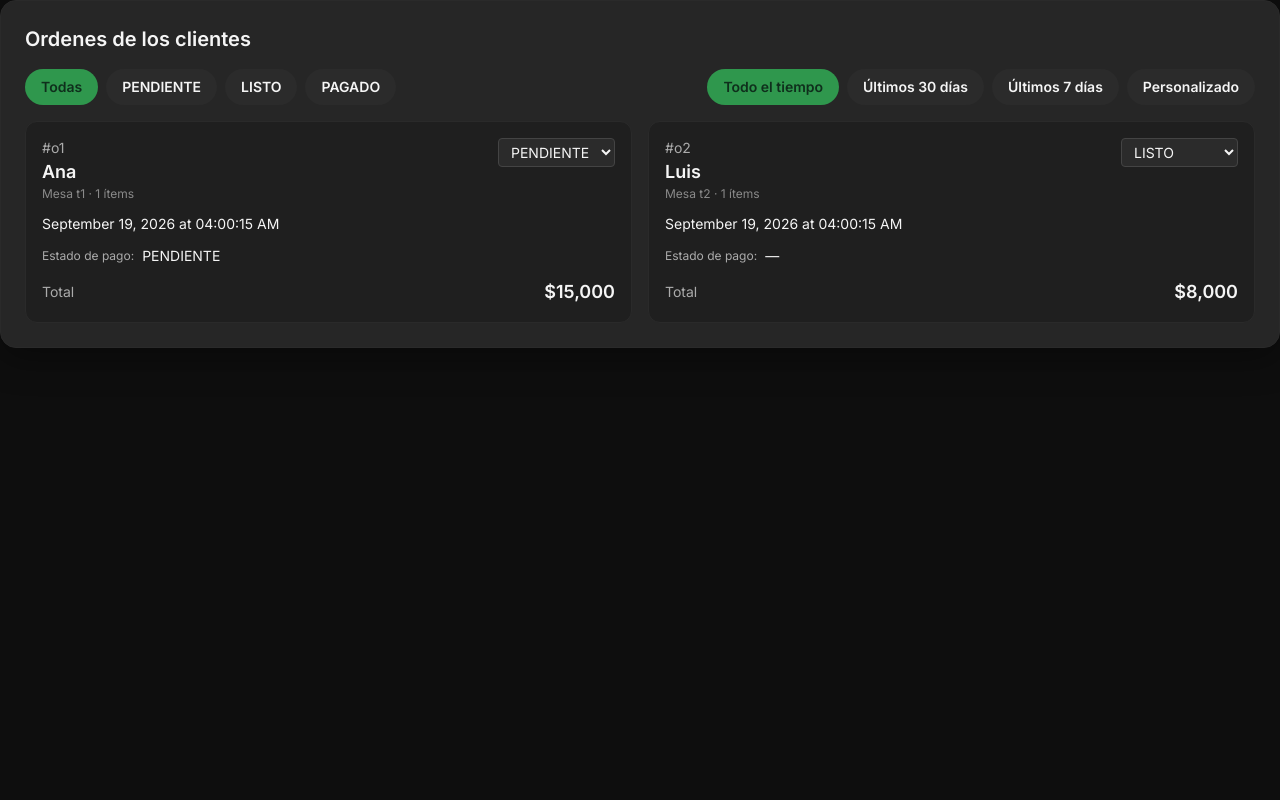
Test: RecentOrders (dashboard) › error 400 requiriendo mesa: avisa y abre prompt
Expected: the heading "Luis" is shown, [665,161,701,182]
Select "PENDIENTE" in the dropdown in the row of "Luis": point(1180, 152) [1121,138,1238,167]
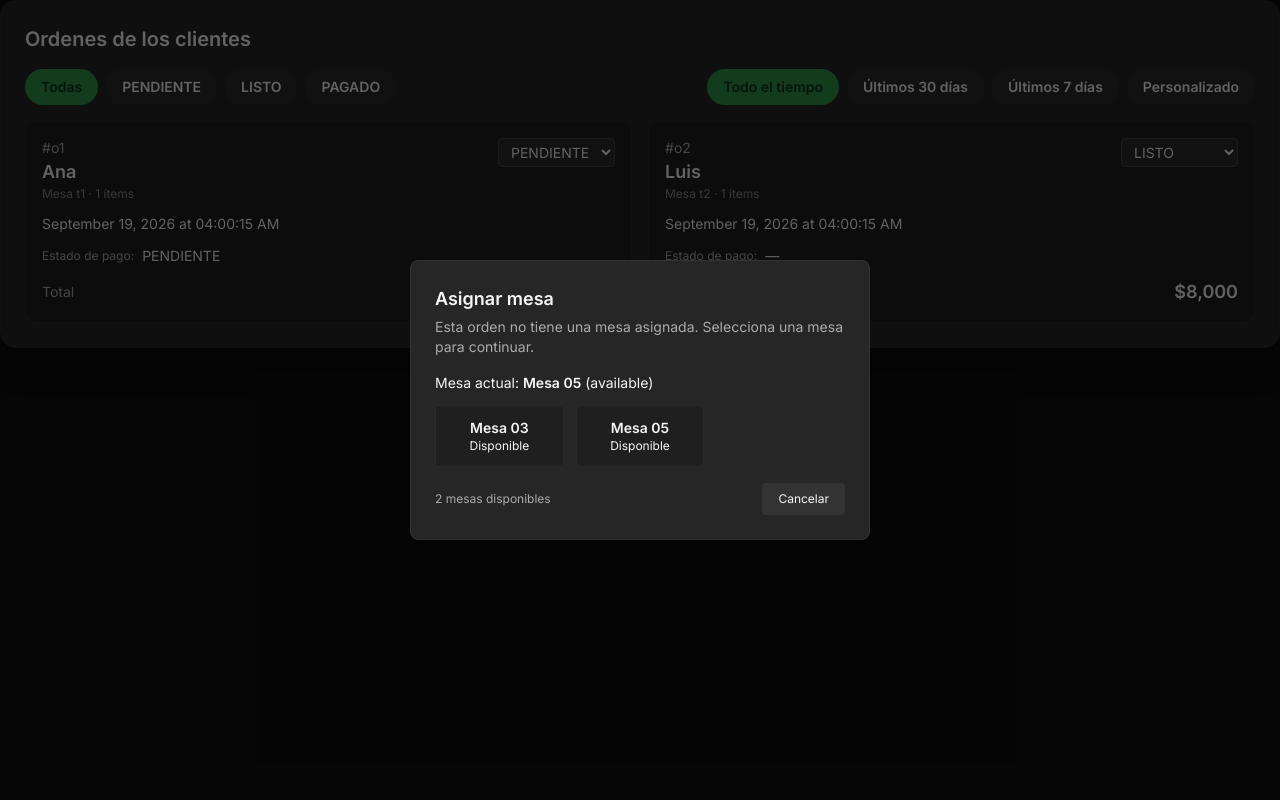
Result: the text "no tiene una mesa asignada" is shown at [435,318,843,355]
